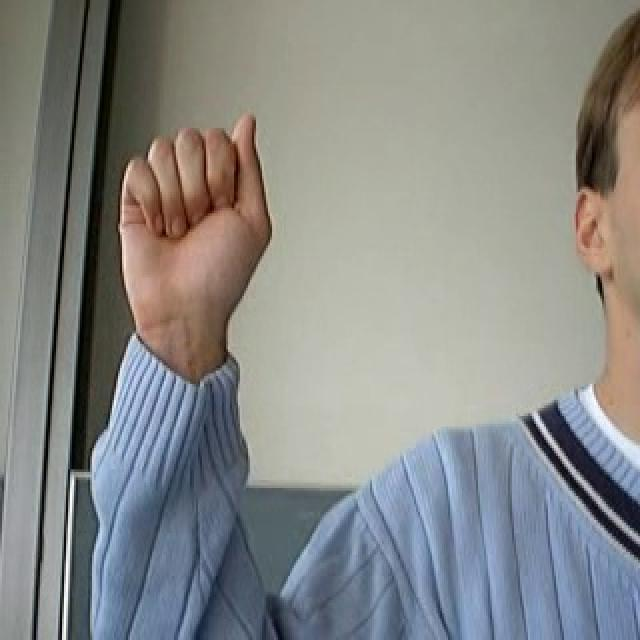A: (104, 108, 293, 326)
